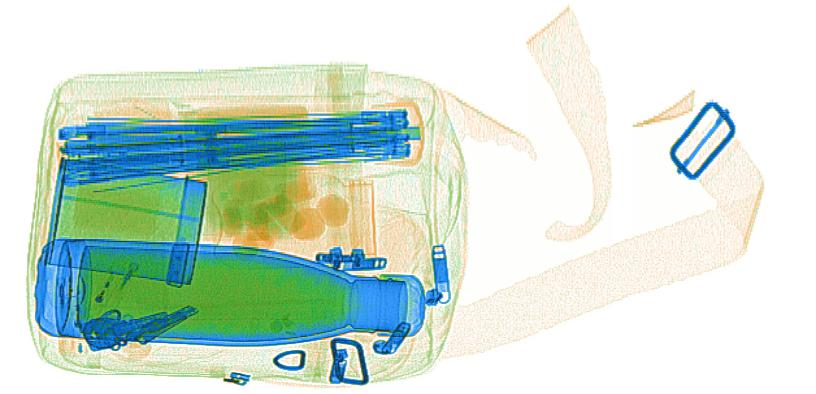lighter: (77, 253, 141, 339)
